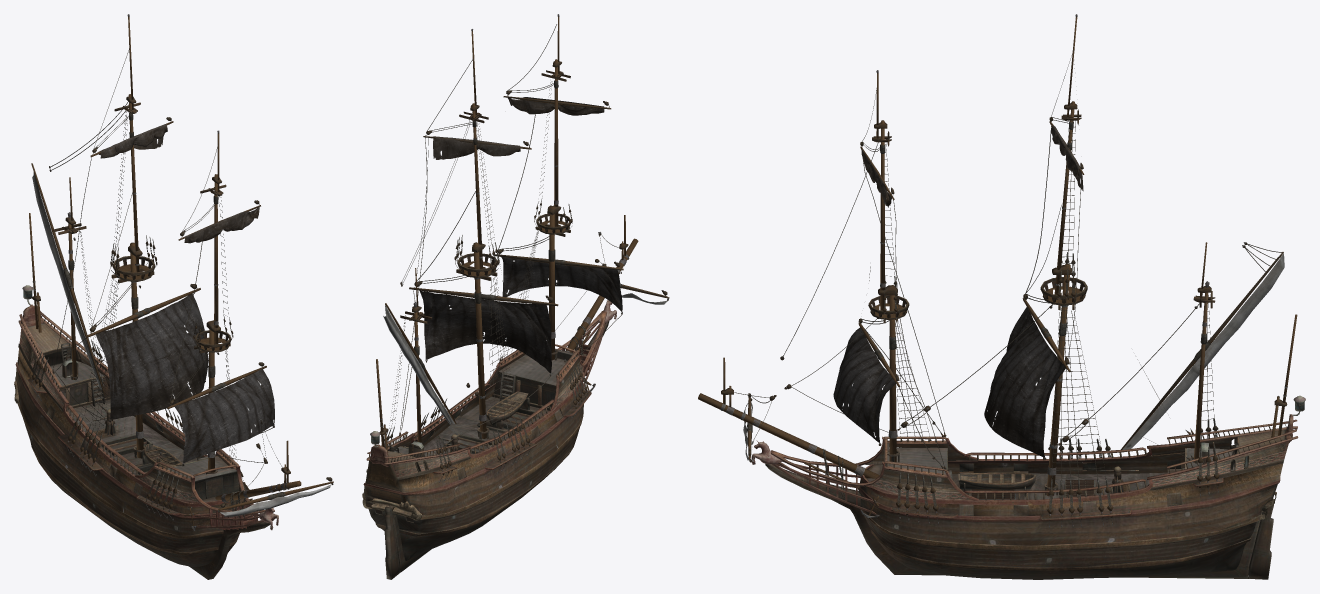
File: dutch_ship_medium.gltf
3 renders of one model, left to right at view 1: azimuth 30°, elevation 25°; view 2: azimuth 150°, elevation 25°; view 3: azimuth 270°, elevation 25°, orthographic. The views are drawn at different scales.
Parts seen in each view (by area): view 1: dutch_ship_medium__x; view 2: dutch_ship_medium__x; view 3: dutch_ship_medium__x.
Part boxes in pixels (x1,y1,x2,y2): dutch_ship_medium__x: (14, 14, 333, 579); dutch_ship_medium__x: (362, 14, 669, 579); dutch_ship_medium__x: (698, 14, 1305, 579).
Size of the model in its own units: 6.81 by 24.65 by 24.06.
Materials: 3 (3 with a texture image).
